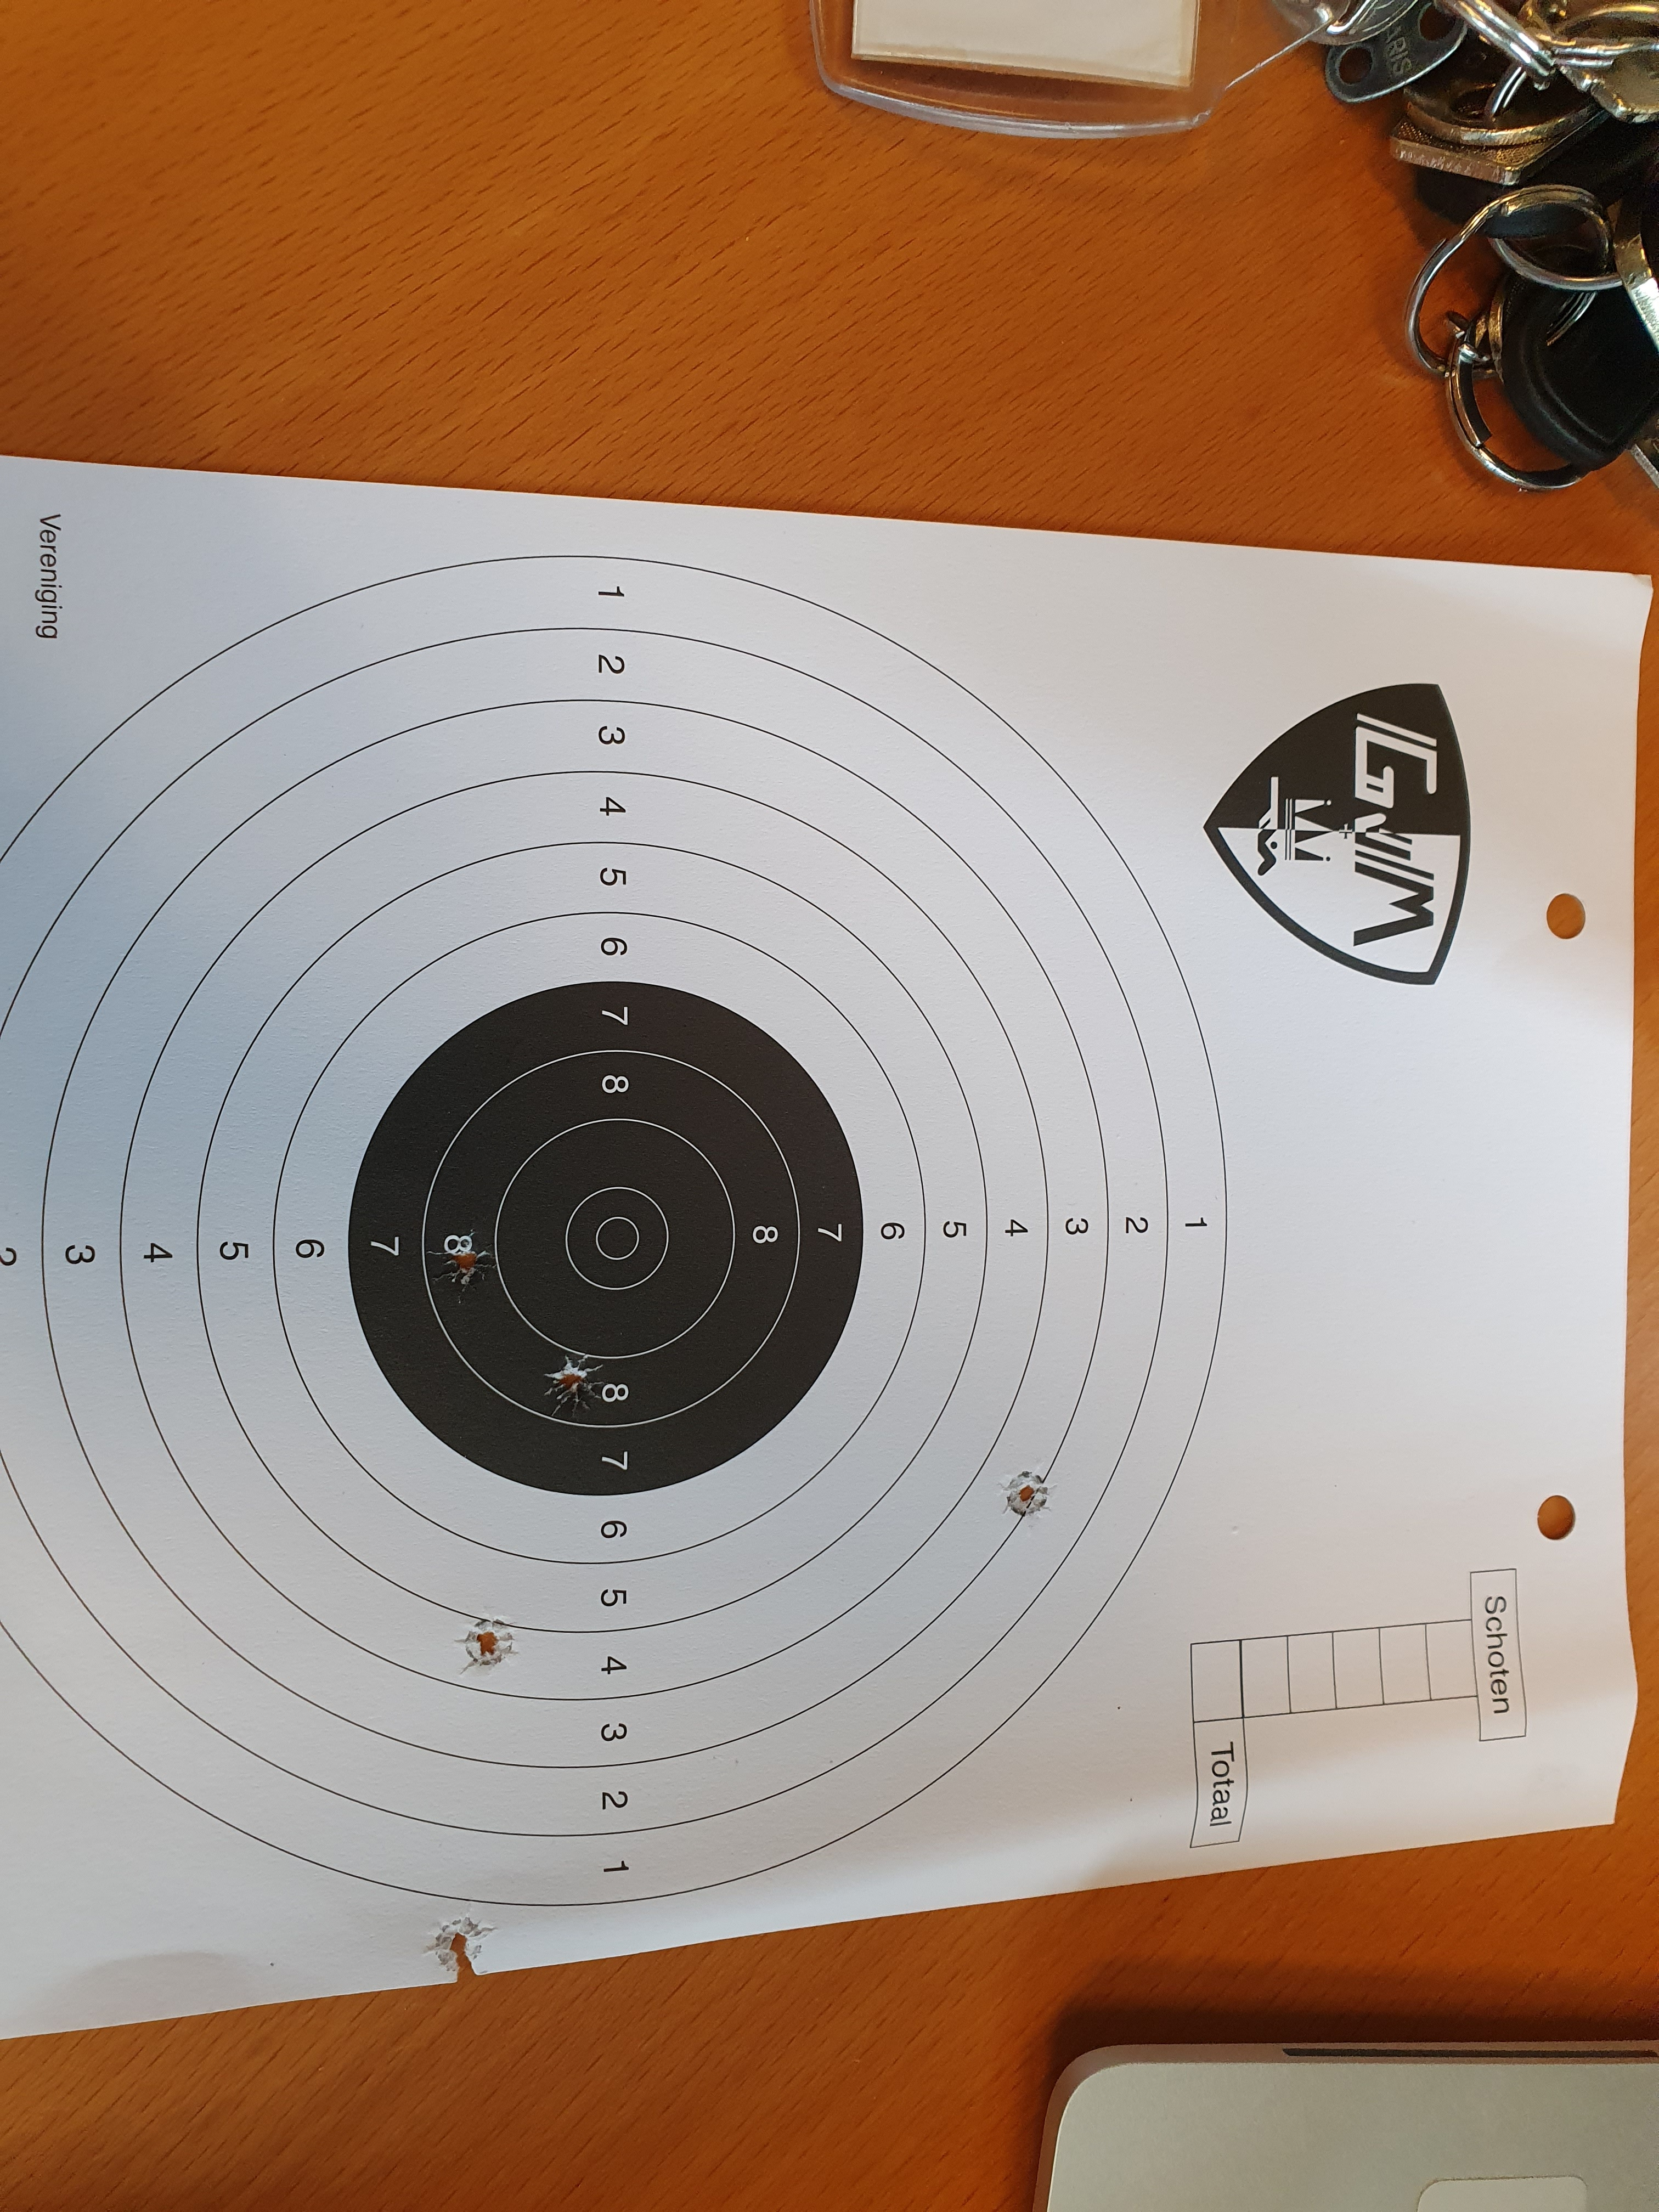center: (345, 979, 866, 1500)
out: (7, 552, 1234, 1912)
shot: (420, 1911, 500, 1975), (460, 1613, 519, 1670), (542, 1357, 594, 1411), (432, 1233, 488, 1284), (1002, 1468, 1051, 1517)
target: (563, 1184, 667, 1291)
